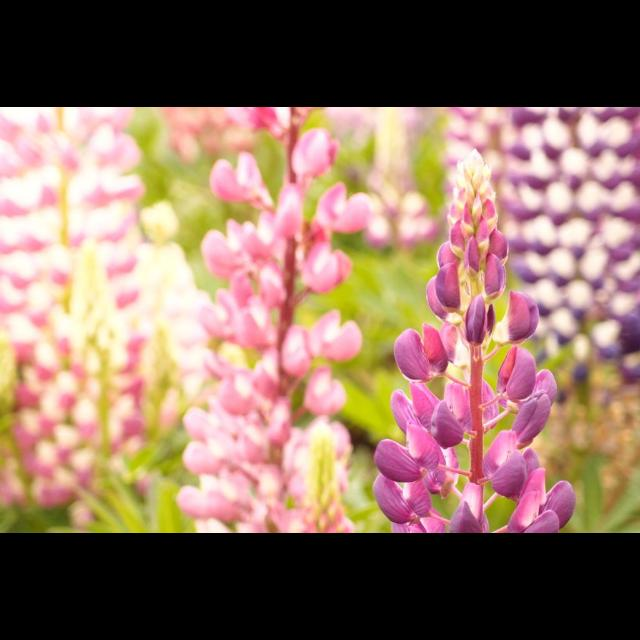Flower: (1, 107, 640, 533), (392, 323, 452, 381)
